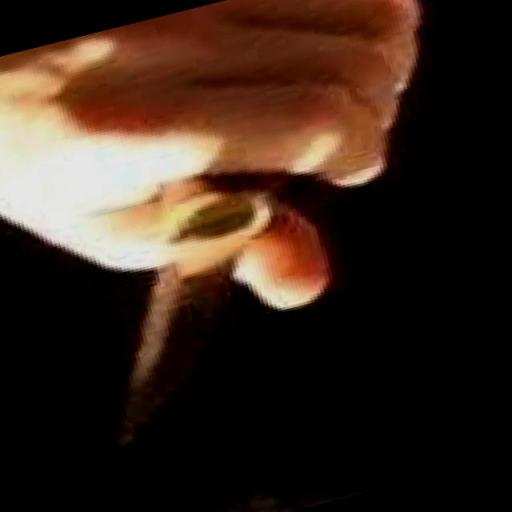knife: (31, 61, 437, 480)
